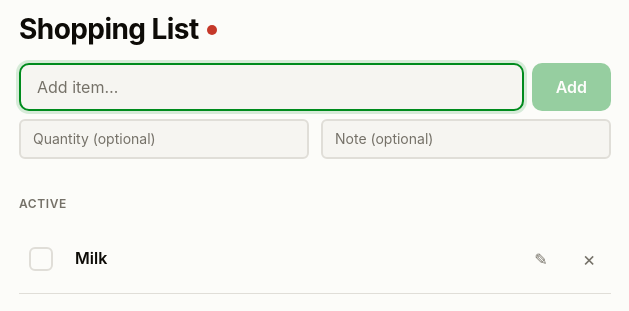
it: Task 3 — Suggestion integration in App › typing partial name shows suggestion dropdown
Type "mi" into the field named "item name" at (271, 87), box [19, 63, 524, 111]
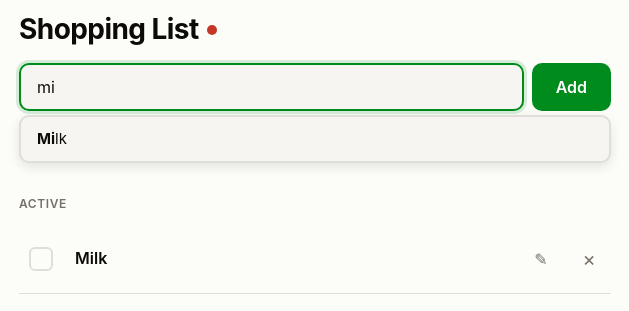
Check: the list "Milk" is shown, box [19, 115, 611, 163]
